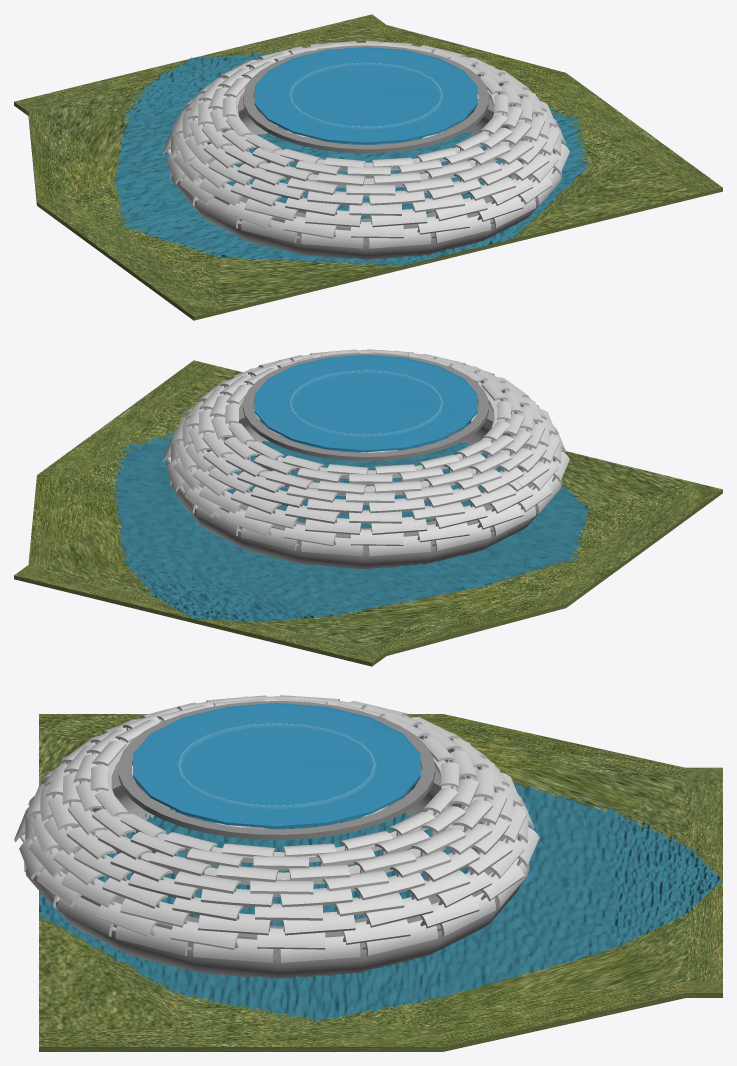
File: ArtGallery.FBX
3 views of the same model, one above another, from view 1: azimuth 30°, elevation 25°; view 2: azimuth 150°, elevation 25°; view 3: azimuth 270°, elevation 25° (orthographic). The views are drawn at different scales.
Visible parts, largest first — view 1: Box001, 对象001, Cylinder001, Tube001, Tube004, Box018, Box019, Box058, Box057, Box037, Box038, Box039 (+24 smaller); view 2: Box001, 对象001, Cylinder001, Tube001, Tube004, Box012, Box013, Tube003, Box032, Box052, Box031, Box051 (+23 smaller); view 3: Box001, 对象001, Cylinder001, Tube001, Tube004, Box006, Box007, Box026, Box046, Tube003, Box045, Box025 (+55 smaller).
Part boxes in pixels (x1=…): Box001: x1=14, y1=14, x2=722, y2=320; 对象001: x1=115, y1=51, x2=588, y2=265; Cylinder001: x1=254, y1=47, x2=477, y2=144; Tube001: x1=180, y1=96, x2=543, y2=259; Tube004: x1=243, y1=45, x2=488, y2=153; Box018: x1=301, y1=229, x2=364, y2=248; Box019: x1=367, y1=228, x2=430, y2=248; Box058: x1=370, y1=209, x2=427, y2=227; Box057: x1=305, y1=210, x2=361, y2=227; Box037: x1=283, y1=216, x2=336, y2=238; Box038: x1=351, y1=222, x2=403, y2=238; Box039: x1=417, y1=214, x2=469, y2=234; Box001: x1=14, y1=360, x2=722, y2=666; 对象001: x1=113, y1=432, x2=588, y2=622; Cylinder001: x1=254, y1=354, x2=477, y2=452; Tube001: x1=176, y1=402, x2=543, y2=569; Tube004: x1=243, y1=353, x2=488, y2=461; Box012: x1=301, y1=537, x2=364, y2=556; Box013: x1=368, y1=535, x2=430, y2=556; Tube003: x1=228, y1=382, x2=505, y2=478; Box032: x1=351, y1=529, x2=403, y2=545; Box052: x1=370, y1=516, x2=427, y2=534; Box031: x1=283, y1=524, x2=337, y2=546; Box051: x1=305, y1=518, x2=361, y2=534; Box001: x1=39, y1=714, x2=722, y2=1051; 对象001: x1=39, y1=781, x2=722, y2=1022; Cylinder001: x1=133, y1=703, x2=420, y2=828; Tube001: x1=52, y1=765, x2=522, y2=978; Tube004: x1=118, y1=701, x2=435, y2=839; Box006: x1=193, y1=938, x2=274, y2=962; Box007: x1=279, y1=936, x2=360, y2=962; Box026: x1=257, y1=928, x2=325, y2=949; Box046: x1=282, y1=911, x2=355, y2=935; Tube003: x1=98, y1=737, x2=456, y2=863; Box045: x1=198, y1=913, x2=270, y2=935; Box025: x1=170, y1=921, x2=239, y2=949.
Bounding box in the file's own units: 143 × 24.59 × 129.
5 materials, 1 textured.
